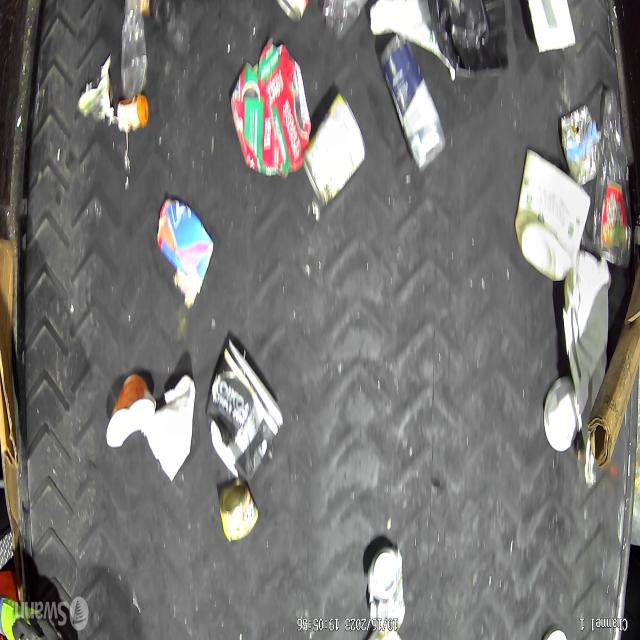can: (230, 41, 311, 178), (304, 94, 366, 208), (559, 107, 597, 185), (368, 548, 403, 632), (218, 481, 258, 542), (279, 0, 308, 24)
plastic_bottle: (592, 89, 632, 268), (119, 0, 149, 100)
